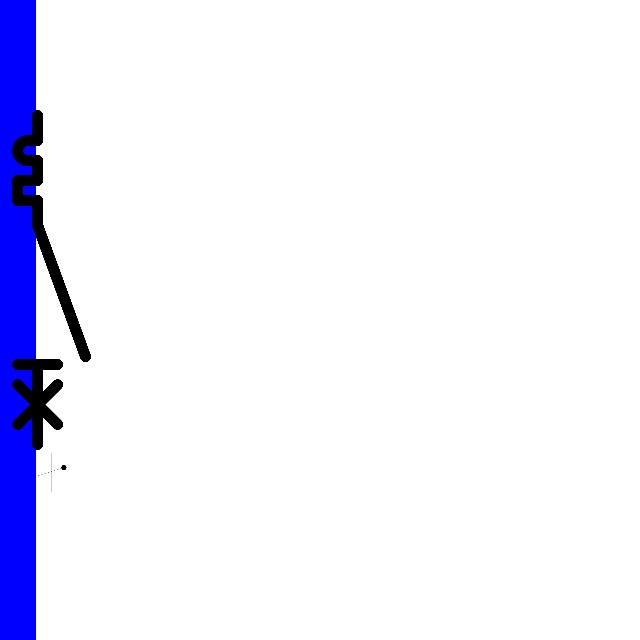interruptor_termomagnetico: (9, 107, 93, 453)
